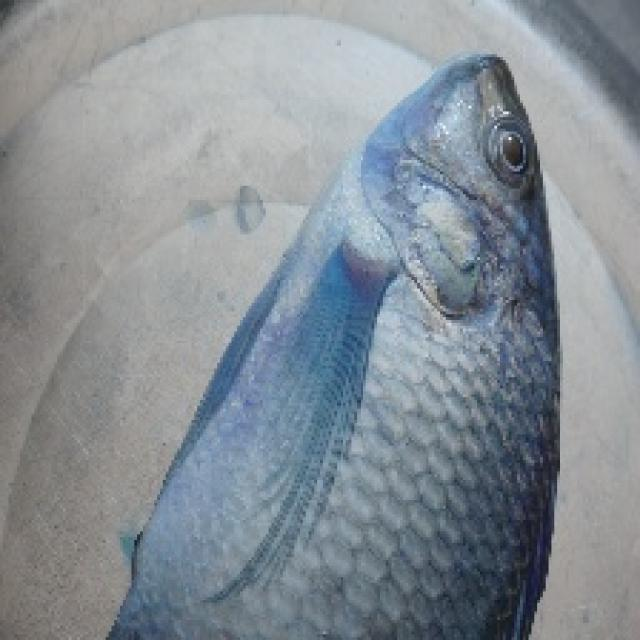Fresh: (228, 42, 590, 590)
